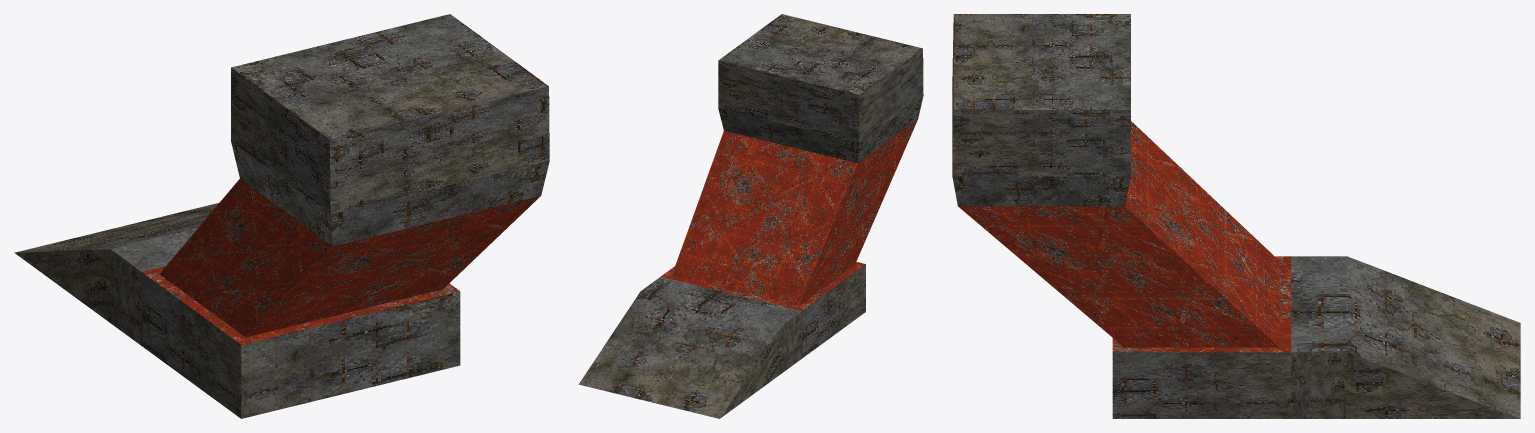
File: Red_Metal_Diagonal _structure-col.glb
The picture shows the model from 3 angles, left to right: view 1: azimuth 30°, elevation 25°; view 2: azimuth 150°, elevation 25°; view 3: azimuth 270°, elevation 25°; orthographic projection. The views are drawn at different scales.
Visible parts, largest first — view 1: Red_Metal_Diagonal _structure-col; view 2: Red_Metal_Diagonal _structure-col; view 3: Red_Metal_Diagonal _structure-col.
Part boxes in pixels (<box>): Red_Metal_Diagonal _structure-col: <box>14,14,549,418</box>; Red_Metal_Diagonal _structure-col: <box>578,14,923,418</box>; Red_Metal_Diagonal _structure-col: <box>952,14,1520,418</box>.
Size of the model in its own units: 4 by 6 by 10.
Materials: 1 (1 with a texture image).
